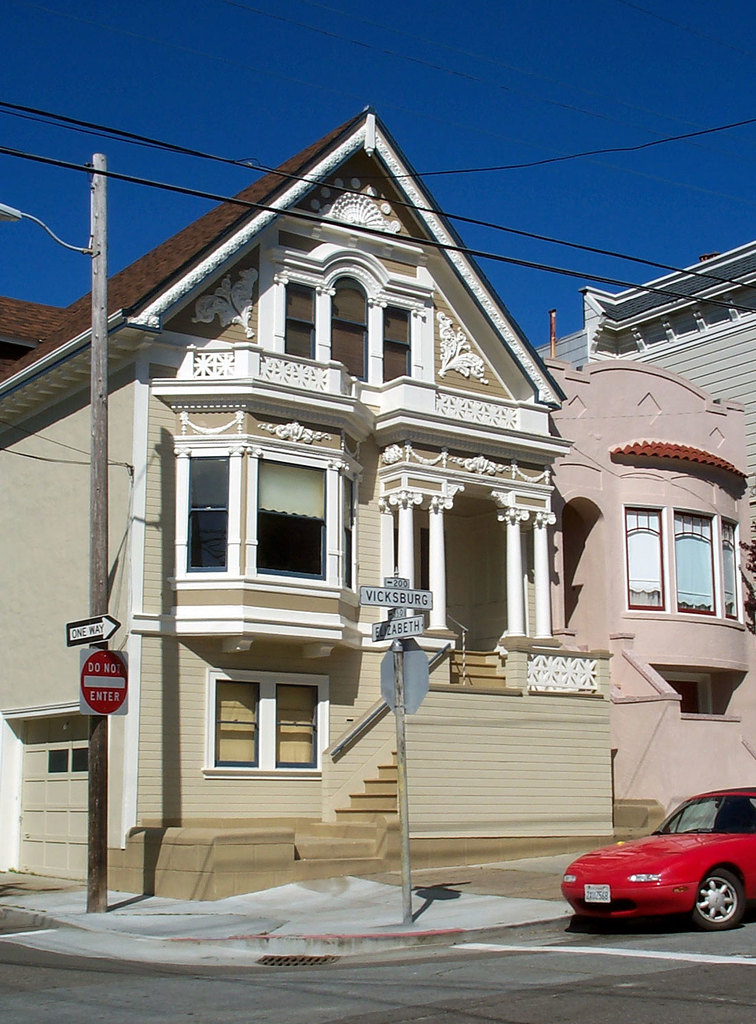cars: (562, 778, 756, 928)
